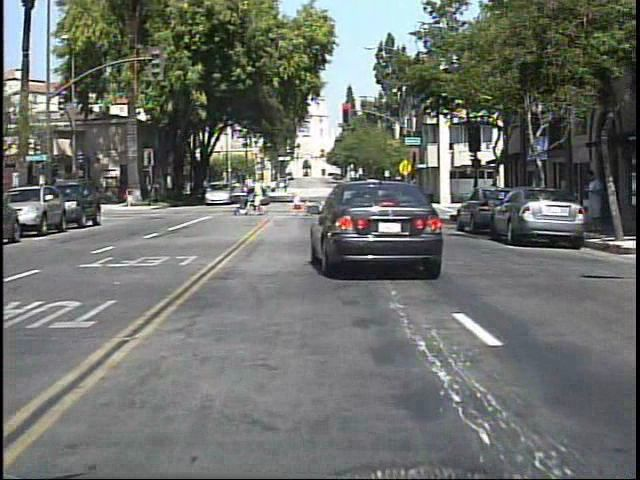person: (583, 165, 605, 236), (250, 176, 271, 216), (124, 184, 138, 210), (151, 179, 152, 207)
